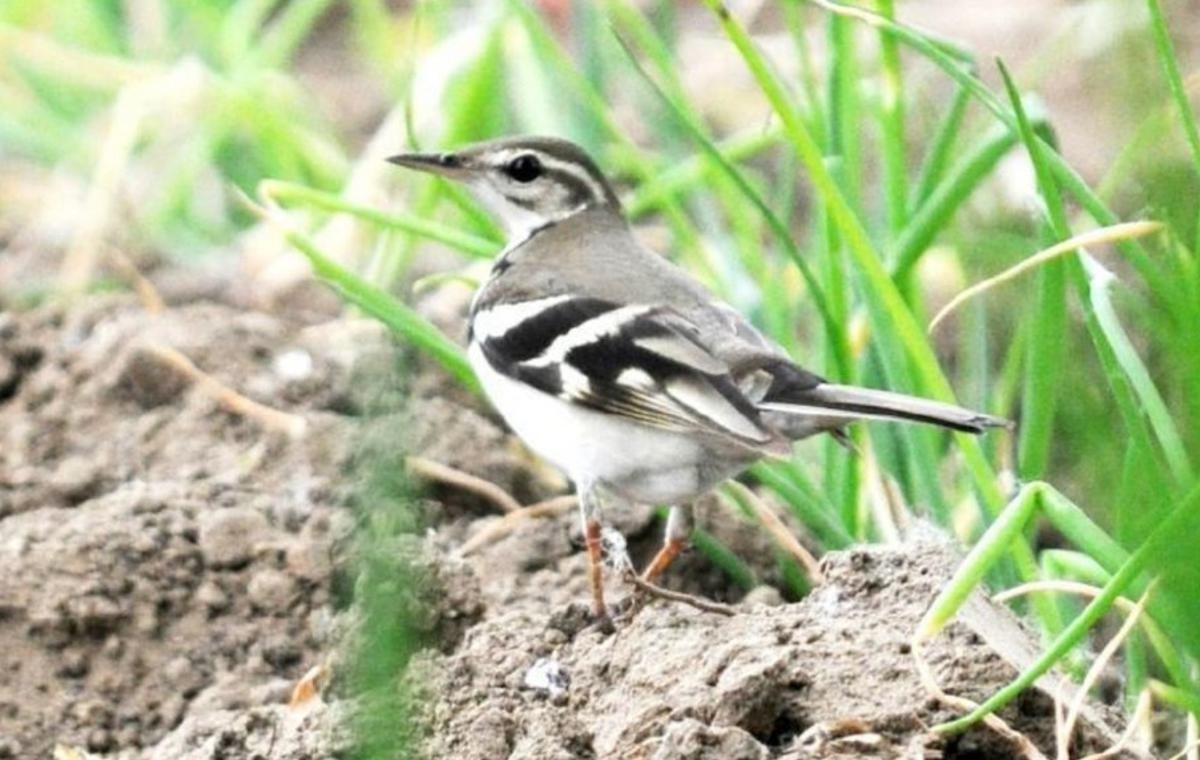wagtail: (416, 108, 983, 570)
